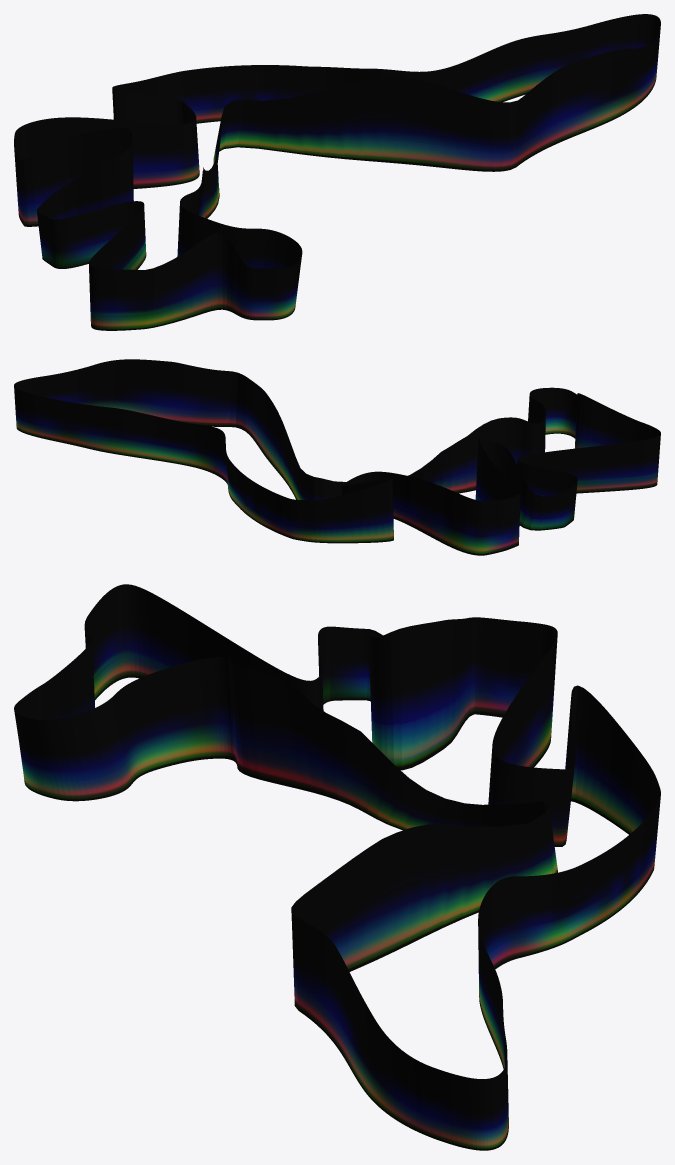
Rendered from AuroraBorealisMesh.fbx.
The picture shows the model from 3 angles, top to bottom: view 1: azimuth 30°, elevation 25°; view 2: azimuth 150°, elevation 25°; view 3: azimuth 270°, elevation 25°; orthographic projection. The views are drawn at different scales.
Parts seen in each view (by area): view 1: AuroraRounded; view 2: AuroraRounded; view 3: AuroraRounded.
Part boxes in pixels (<box>): AuroraRounded: <box>14,14,660,330</box>; AuroraRounded: <box>14,359,660,555</box>; AuroraRounded: <box>14,584,660,1150</box>.
Bounding box in the file's own units: 1648 × 224 × 942.
